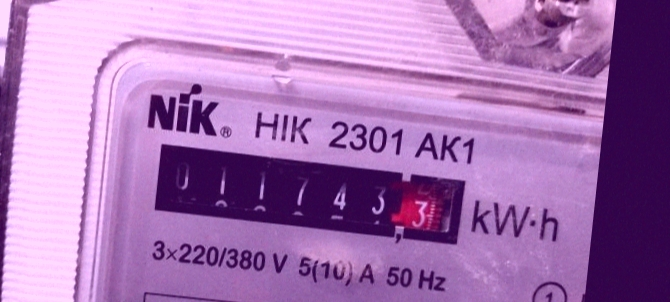0: (170, 155, 193, 193)
1: (253, 165, 271, 200), (216, 161, 229, 195)
3: (366, 180, 388, 217), (408, 196, 430, 231)
4: (329, 176, 349, 211)
7: (290, 171, 312, 206)
screen: (137, 129, 480, 258)
